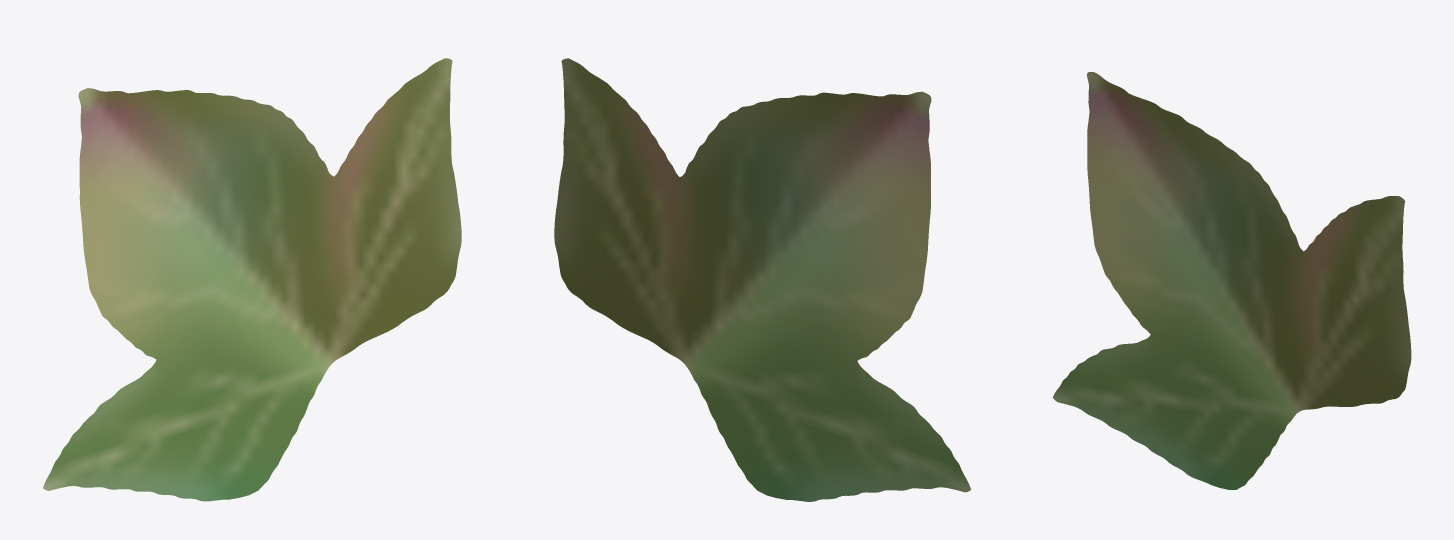
File: lierres_solo_5.fbx
The picture shows the model from 3 angles, left to right: view 1: azimuth 30°, elevation 25°; view 2: azimuth 150°, elevation 25°; view 3: azimuth 330°, elevation 25°; orthographic projection. The views are drawn at different scales.
Visible parts, largest first — view 1: lierres_solo_5; view 2: lierres_solo_5; view 3: lierres_solo_5.
Part boxes in pixels (bbox=[...]): lierres_solo_5: bbox=[43, 58, 461, 501]; lierres_solo_5: bbox=[554, 58, 970, 501]; lierres_solo_5: bbox=[1053, 72, 1411, 489].
Size of the model in its own units: 10.02 by 10.68 by 0.1568.
